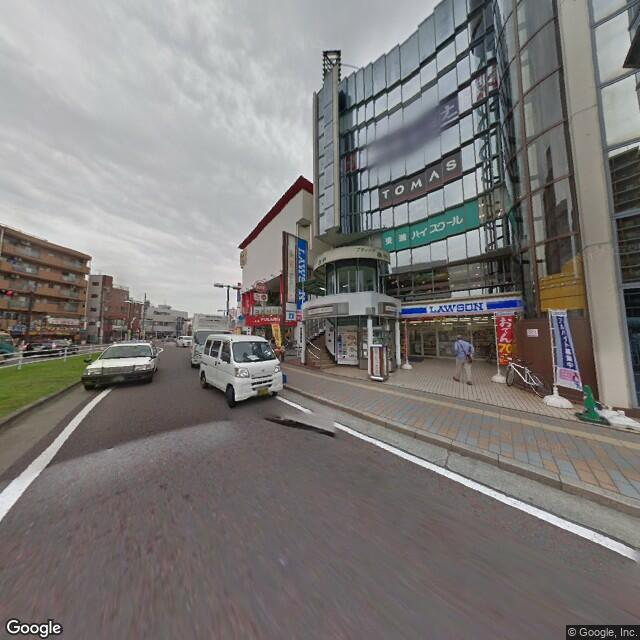lawson: (401, 293, 523, 323)
